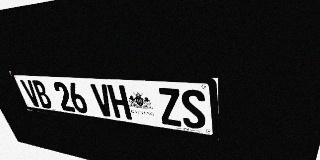2: (52, 81, 76, 112)
6: (65, 82, 89, 114)
B: (31, 80, 54, 109)
H: (107, 85, 132, 120)
S: (180, 89, 206, 130)
V: (90, 84, 115, 118), (20, 79, 42, 107)
Z: (157, 87, 183, 127)
